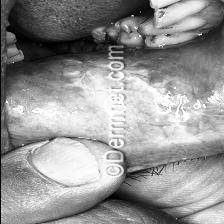Toxin: (132, 74, 178, 144), (62, 53, 106, 120)
